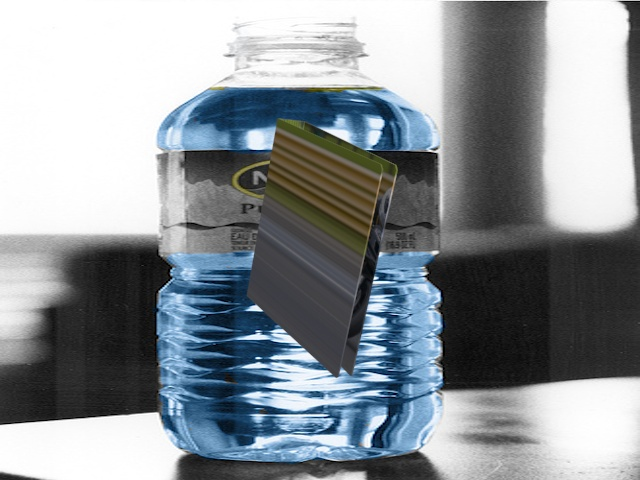ring_binder: (241, 112, 401, 384)
